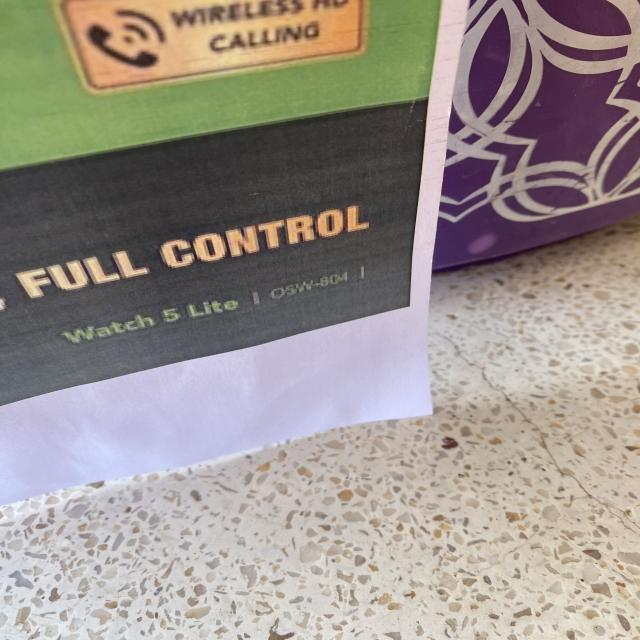Watch 5 Lite OSW-804: (55, 257, 384, 356)
